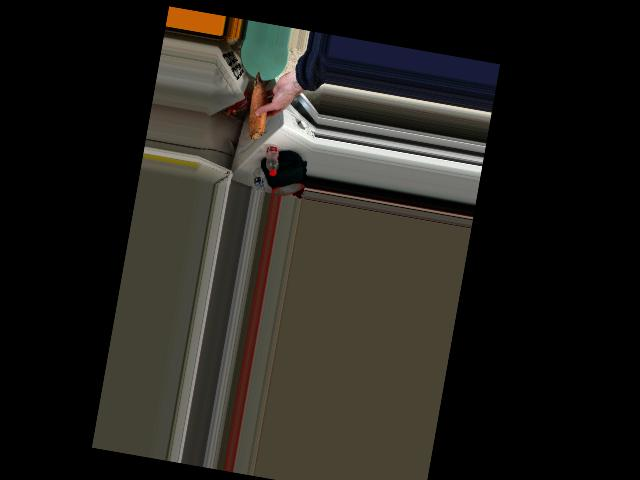sweet_potato: (243, 72, 276, 143)
